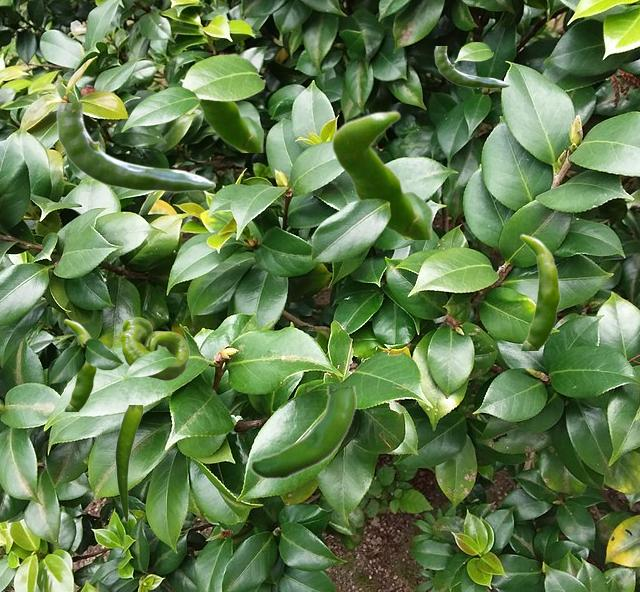green_chili: (56, 103, 214, 191), (331, 110, 431, 238), (249, 386, 355, 479), (185, 53, 262, 151), (519, 233, 560, 349), (120, 317, 188, 379), (63, 318, 96, 410), (434, 46, 508, 87), (115, 405, 141, 521)
